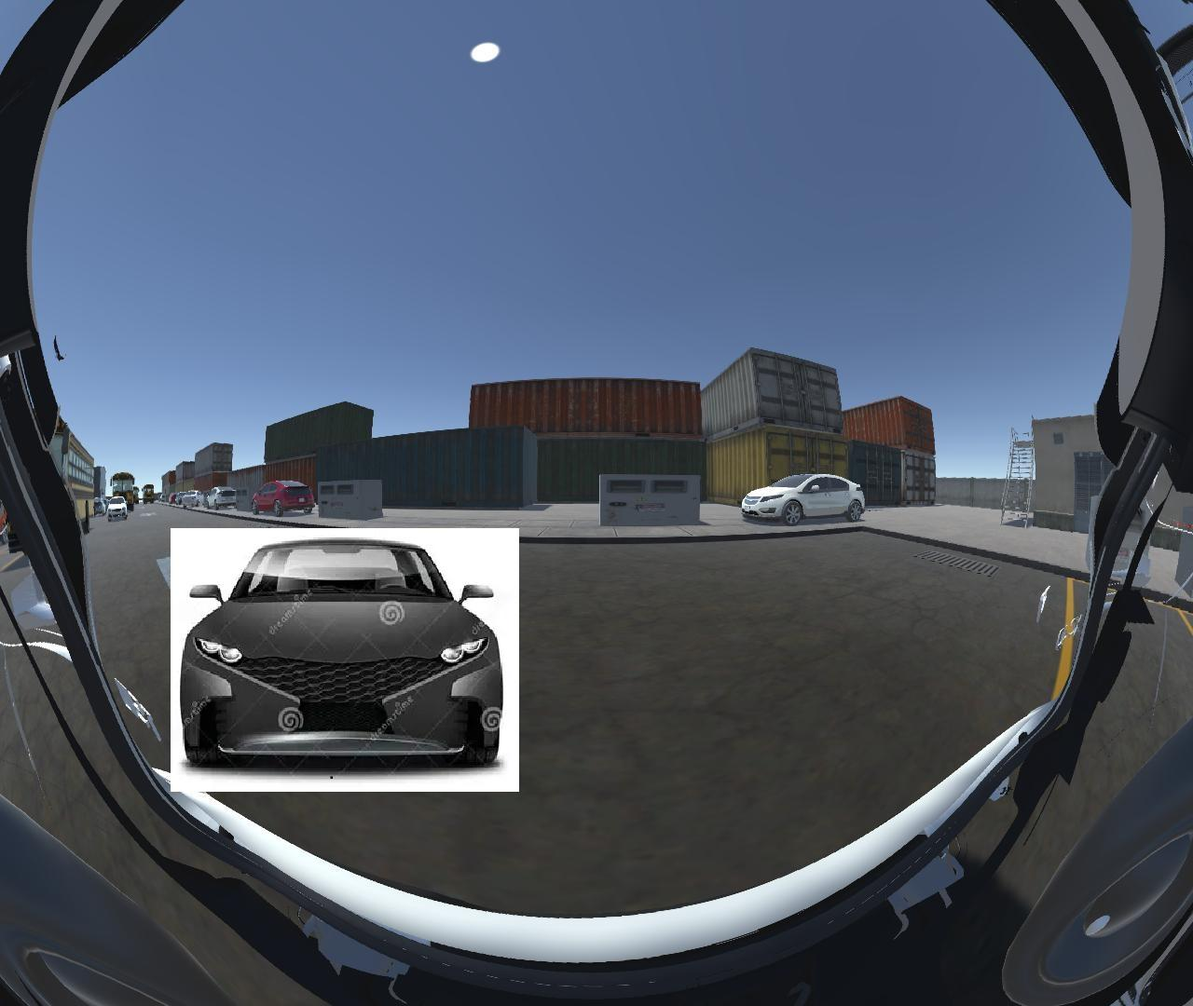Car: (171, 531, 520, 791)
